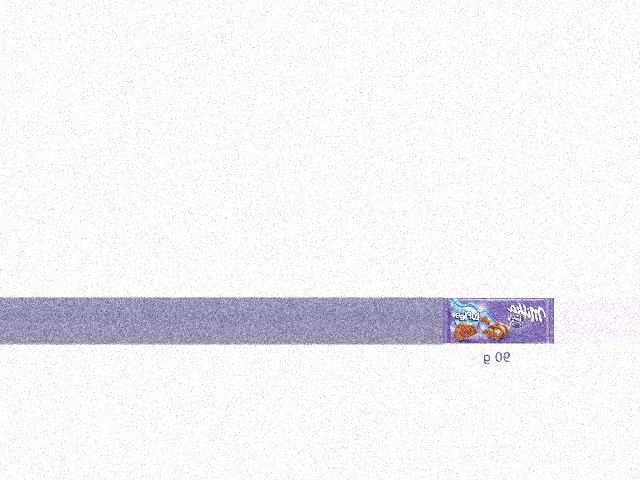chocolate: (442, 297, 551, 343)
